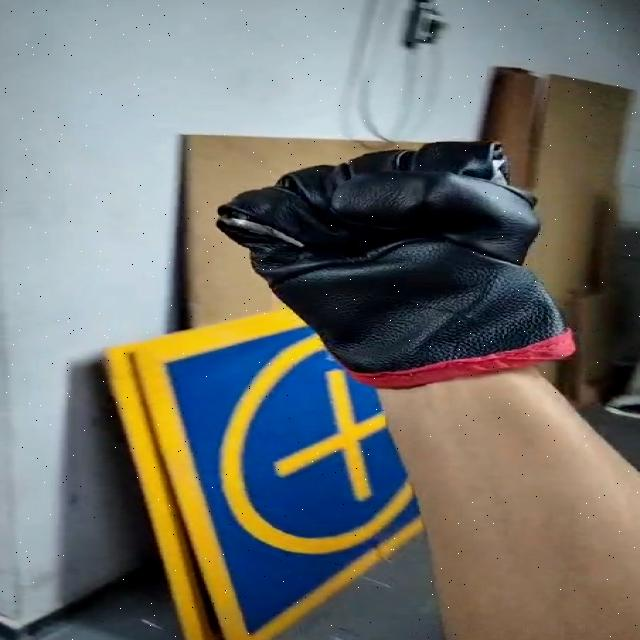Gloves: (212, 138, 584, 391)
